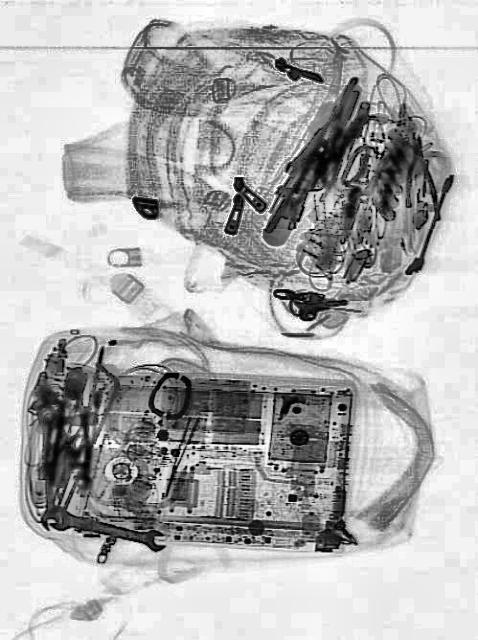Wrench: (48, 506, 166, 552), (36, 406, 58, 528)
